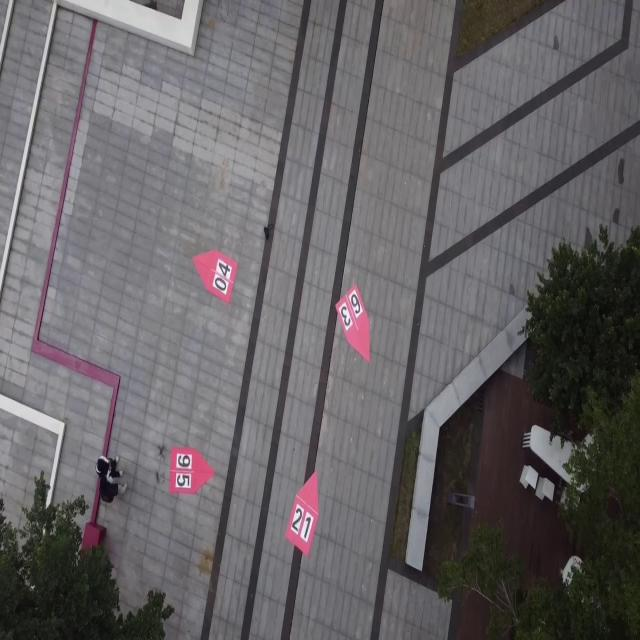-sign-: (285, 470, 319, 557), (335, 282, 369, 366), (192, 248, 238, 305), (170, 446, 215, 497)
